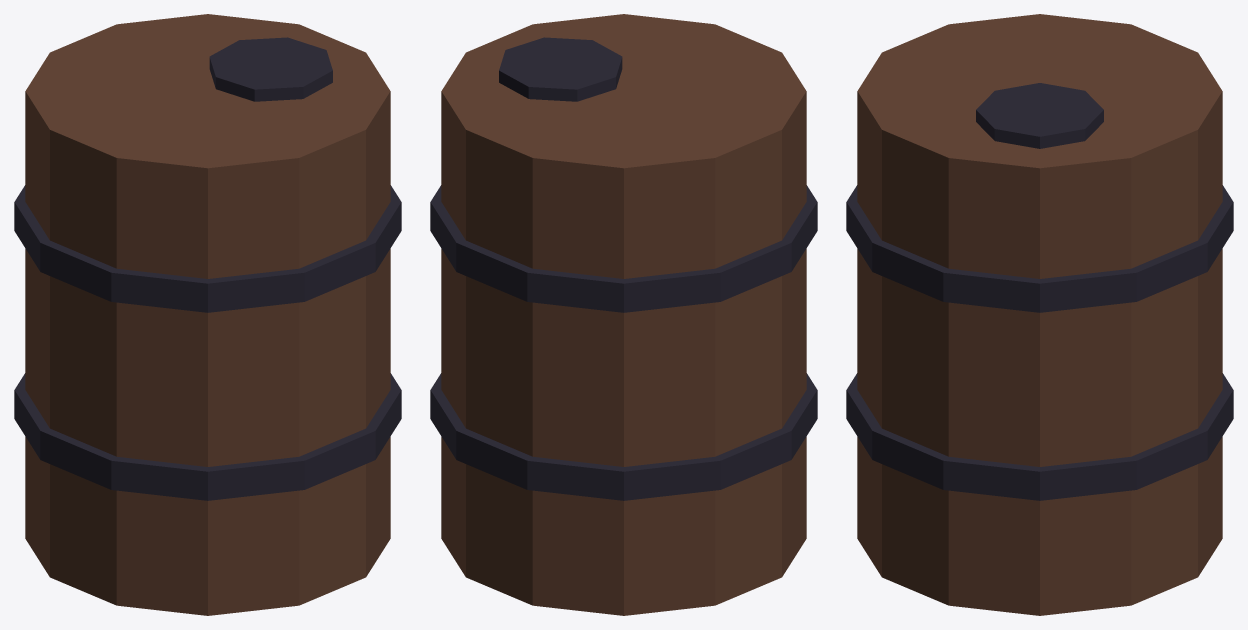
File: barrel.glb
3 views of the same model, side by side, from view 1: azimuth 30°, elevation 25°; view 2: azimuth 150°, elevation 25°; view 3: azimuth 270°, elevation 25° (orthographic).
Visible parts, largest first — view 1: barrel; view 2: barrel; view 3: barrel.
Part boxes in pixels (box(x1,y1,x2,y2)): barrel: box(14, 14, 401, 615); barrel: box(430, 14, 817, 615); barrel: box(846, 14, 1233, 615).
Size of the model in its own units: 0.7208 by 0.945 by 0.7208.
